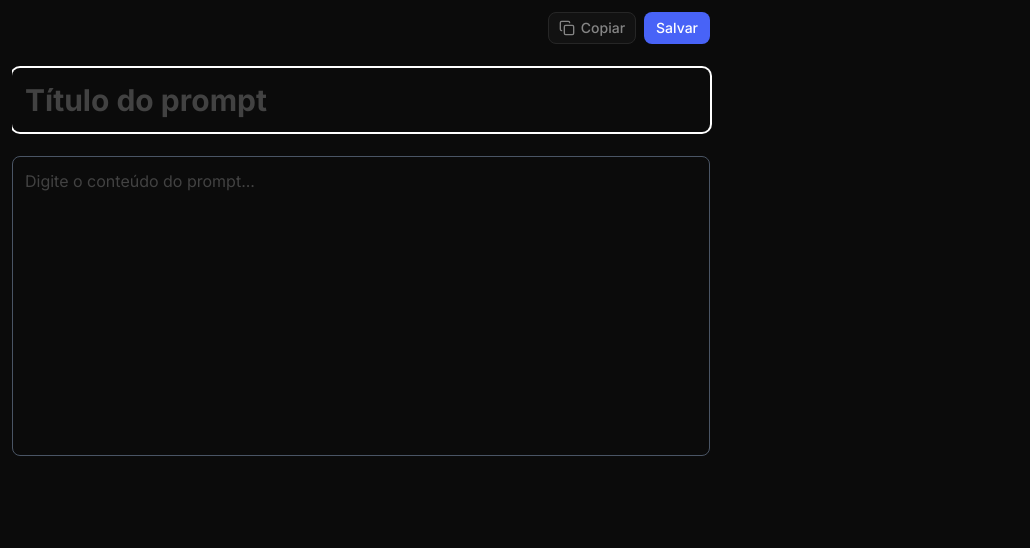
Test case: PromptForm › should show message when the form is submitted with empty fields
The image size is (1030, 548).
Step 1. Click the button "Salvar" → (677, 28), box [644,12,710,44]
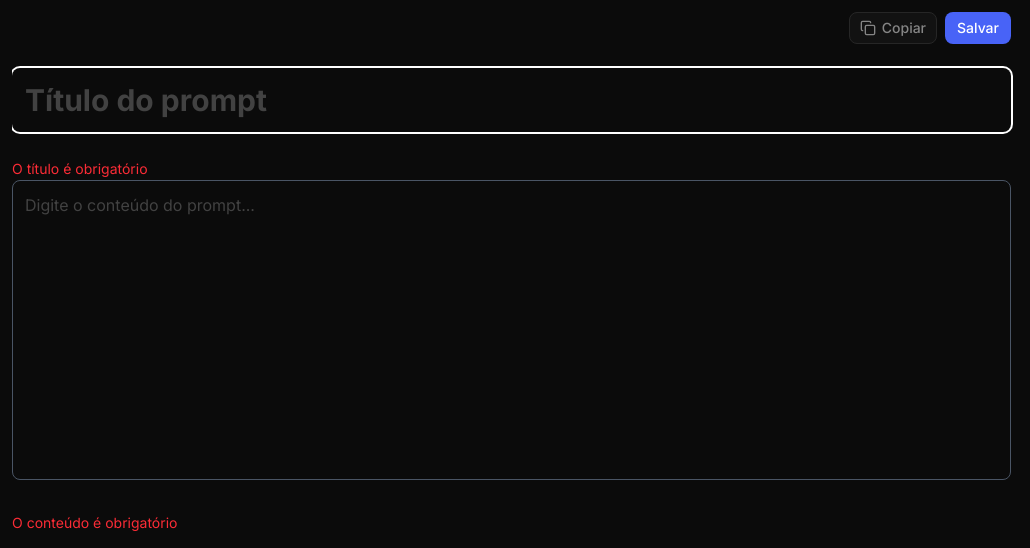
Expected: the text "O título é obrigatório" is shown, [12,160,148,177]
Expected: the text "O conteúdo é obrigatório" is shown, [12,514,177,531]
